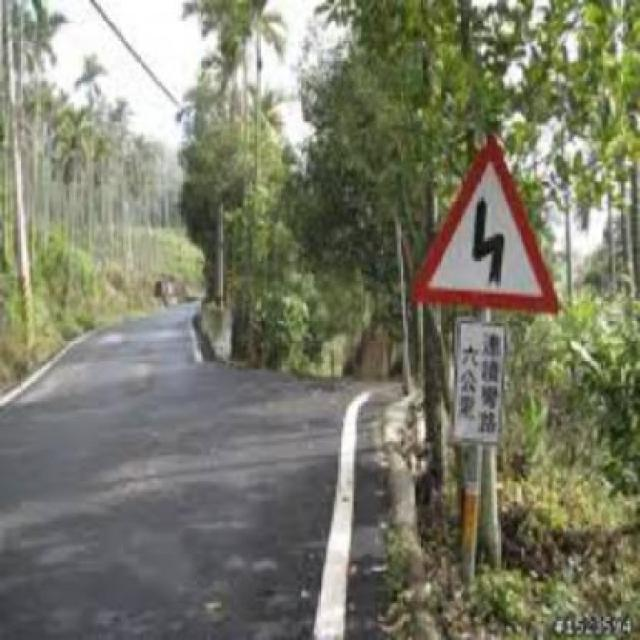left_sharp_curve: (407, 137, 562, 315)
